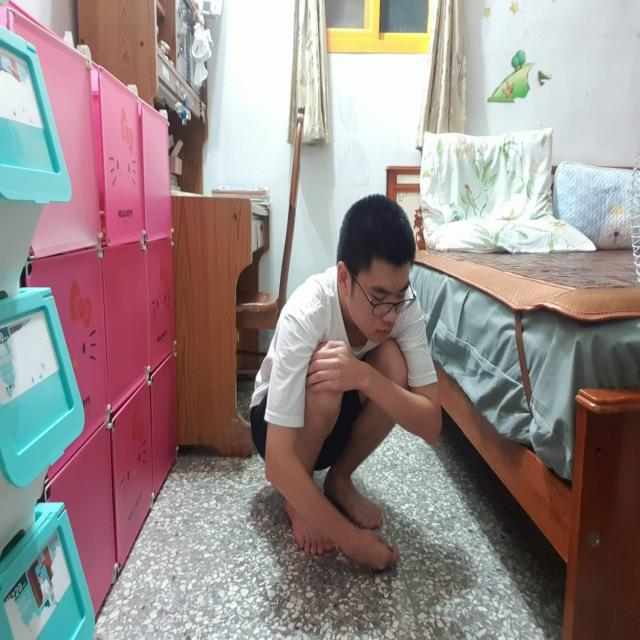sit: (260, 195, 450, 581)
